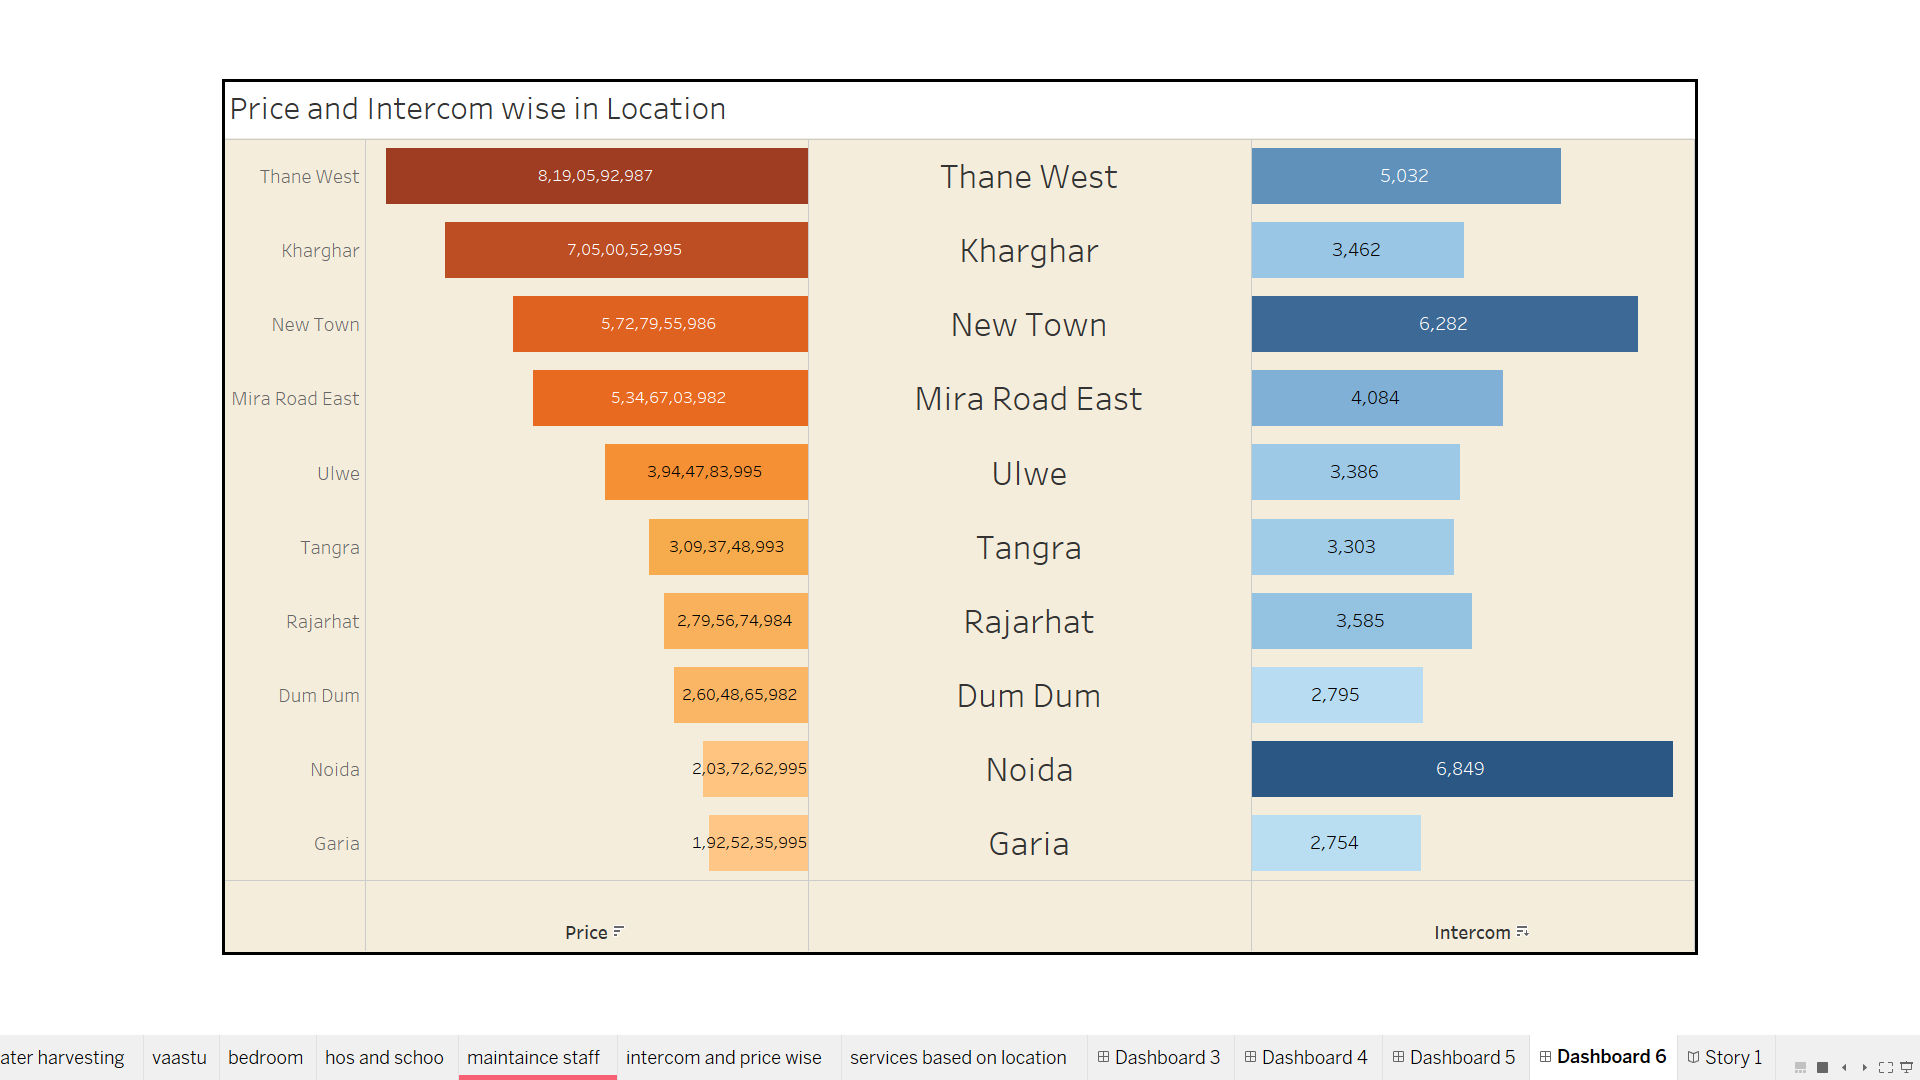

Layout of this report page (visuals, bound fields, positions):
{"tool":"tableau","page":{"name":"Dashboard 6","canvas":[1500,900],"ordinal":3},"visuals":[{"type":"worksheet","title":"intercom and price wise","mark":"Automatic","rows":["Location"],"cols":["Price","Calculation_779404214167334912","Intercom"],"box":[8,8,1484,884]}]}

Visuals, with their boxes on the page's 1500x900 design canvas (x1, y1, x2, y2). These are canvas units, not pixel positions in the 1920x1080 screenshot, which may show the page scaled, cropped or inside an application window:
"intercom and price wise" worksheet: <bbox>8, 8, 1492, 892</bbox>
